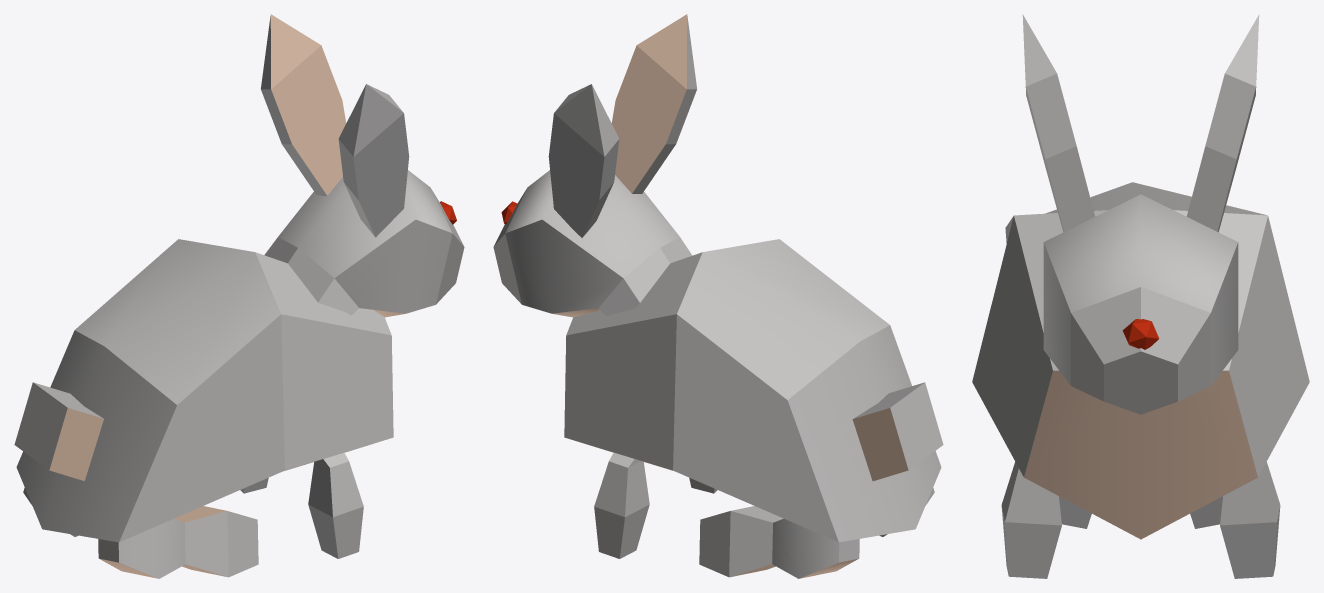
The model's file is Rabbit_001.fbx.
The picture shows the model from 3 angles, left to right: view 1: azimuth 30°, elevation 25°; view 2: azimuth 150°, elevation 25°; view 3: azimuth 270°, elevation 25°; orthographic projection. The views are drawn at different scales.
Parts seen in each view (by area): view 1: Rabbit_001; view 2: Rabbit_001; view 3: Rabbit_001.
Part boxes in pixels (<box>): Rabbit_001: <box>14,14,464,578</box>; Rabbit_001: <box>493,14,943,578</box>; Rabbit_001: <box>972,14,1309,578</box>.
Size of the model in its own units: 58.07 by 61.79 by 32.47.
